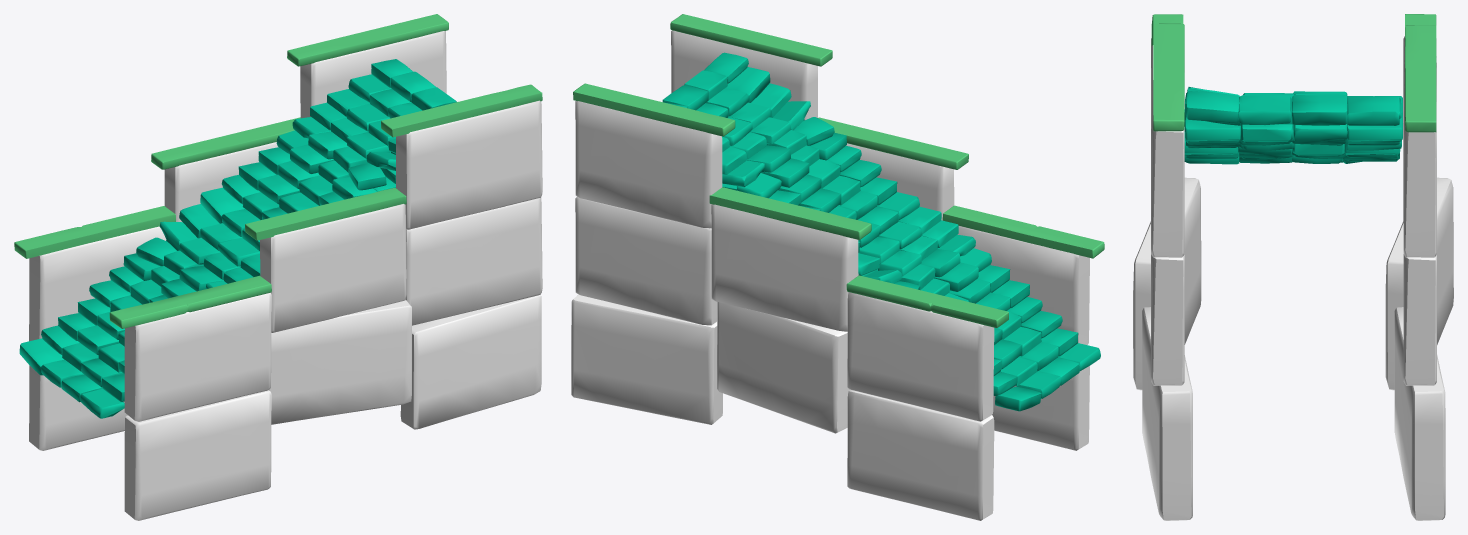
The model's file is stairs01.fbx.
The picture shows the model from 3 angles, left to right: view 1: azimuth 30°, elevation 25°; view 2: azimuth 150°, elevation 25°; view 3: azimuth 270°, elevation 25°; orthographic projection. The views are drawn at different scales.
Visible parts, largest first — view 1: basic_stairs; view 2: basic_stairs; view 3: basic_stairs.
Boxes of the visible parts, box(x1,y1,x2,y2) form: basic_stairs: box(14, 14, 542, 520); basic_stairs: box(571, 14, 1104, 520); basic_stairs: box(1133, 14, 1453, 520).
Bounding box in the file's own units: 10.72 × 7.79 × 5.2.
